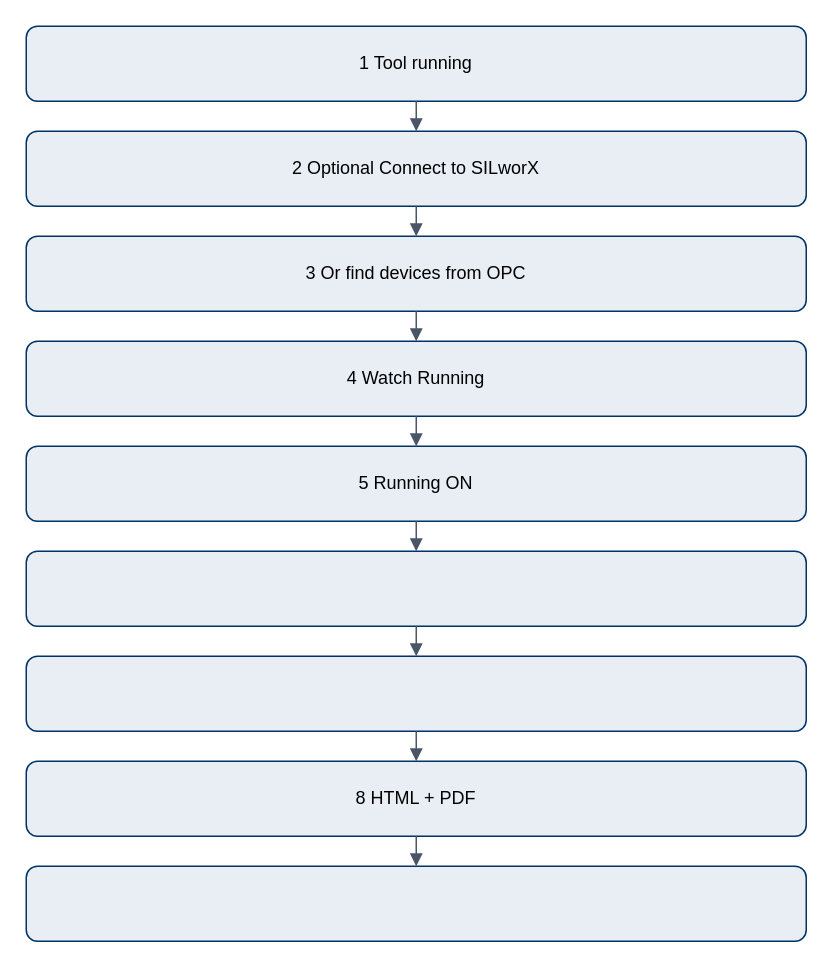
Image size: 833x968. Some labels were removed from this diagram. Here are the shapes that lost their labels. From the top down, the centre of each, then its label:
[415,588]: 6 Running OFF → snapshot
[415,693]: 7 Save database
[415,903]: 9 Open on local screen
